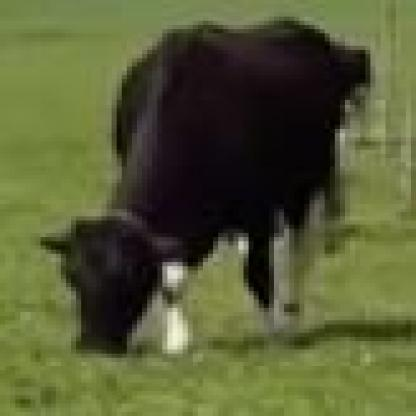cow: (35, 14, 370, 356)
